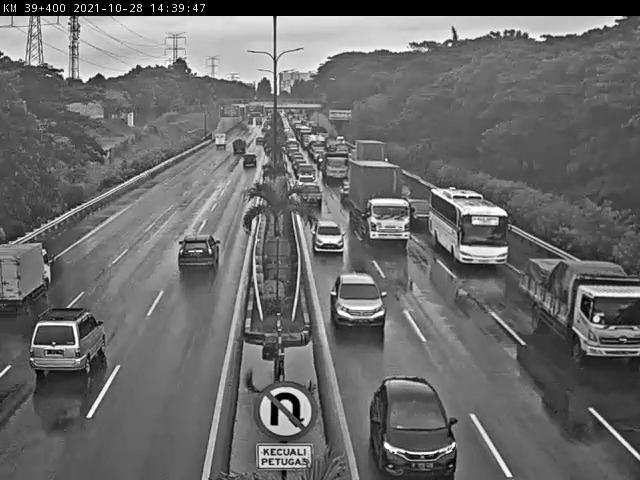big bus: (426, 178, 514, 269)
big truck: (346, 156, 412, 244), (353, 133, 390, 165)
car: (361, 372, 465, 480), (26, 300, 110, 379), (326, 269, 389, 334), (171, 225, 223, 279), (308, 216, 346, 256), (401, 194, 432, 228), (298, 183, 325, 211), (225, 140, 247, 162), (239, 153, 259, 173), (297, 173, 319, 191), (296, 166, 318, 181), (254, 134, 268, 149)
mid truck: (522, 253, 640, 367), (317, 151, 351, 183)
small truck: (0, 236, 57, 311), (210, 130, 228, 152)
